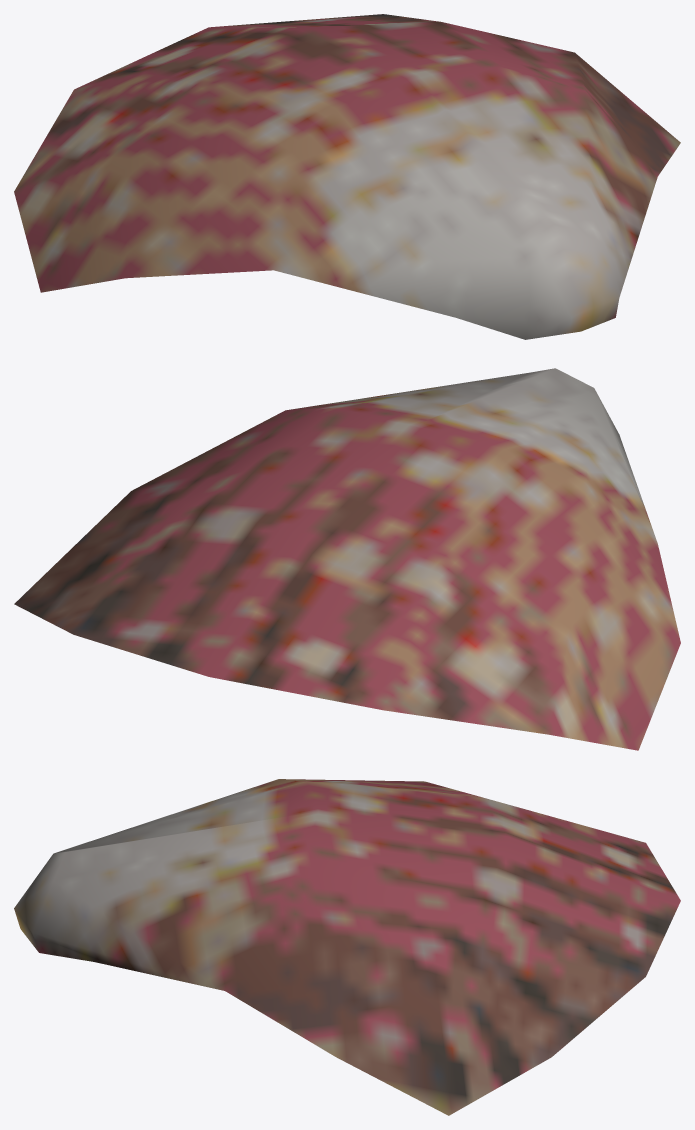
File: 5010_Item_beike_05.FBX
The picture shows the model from 3 angles, top to bottom: view 1: azimuth 30°, elevation 25°; view 2: azimuth 150°, elevation 25°; view 3: azimuth 270°, elevation 25°; orthographic projection. The views are drawn at different scales.
Visible parts, largest first — view 1: 5010_Item_beike_05; view 2: 5010_Item_beike_05; view 3: 5010_Item_beike_05.
Boxes of the visible parts, bbox=[...] form: 5010_Item_beike_05: bbox=[14, 14, 680, 339]; 5010_Item_beike_05: bbox=[14, 368, 680, 750]; 5010_Item_beike_05: bbox=[14, 779, 680, 1115].
Bounding box in the file's own units: 49.79 × 15.71 × 54.23.
